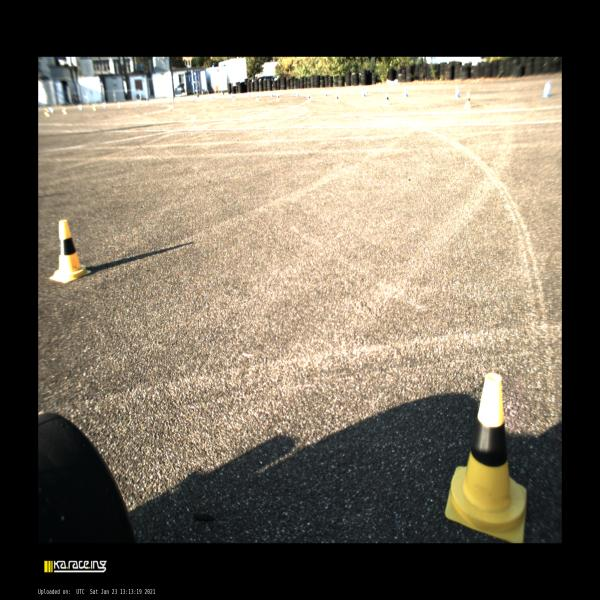blue_cone: (542, 82, 550, 98), (454, 86, 460, 98), (403, 87, 408, 97), (361, 87, 366, 97), (78, 103, 82, 111), (49, 107, 54, 113), (296, 90, 300, 96), (102, 102, 106, 108), (324, 89, 327, 96), (247, 92, 250, 98), (171, 96, 174, 102), (137, 100, 140, 106), (271, 91, 273, 97), (230, 93, 232, 98), (193, 95, 195, 100)
yellow_cone: (445, 373, 527, 543), (49, 220, 92, 283), (464, 92, 472, 109), (383, 92, 390, 107), (334, 92, 339, 103), (44, 108, 50, 117), (62, 107, 67, 114), (308, 94, 312, 102), (276, 94, 280, 101), (255, 95, 259, 102), (209, 94, 213, 101), (92, 104, 96, 111), (117, 102, 121, 108), (232, 94, 235, 101), (200, 95, 202, 102), (146, 100, 148, 106), (177, 97, 179, 103)
